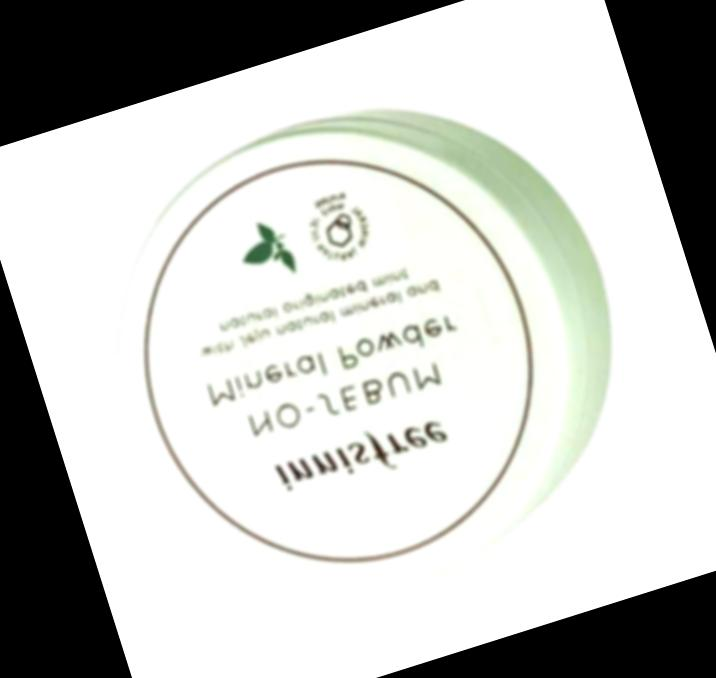cosmetic: (68, 61, 661, 642)
